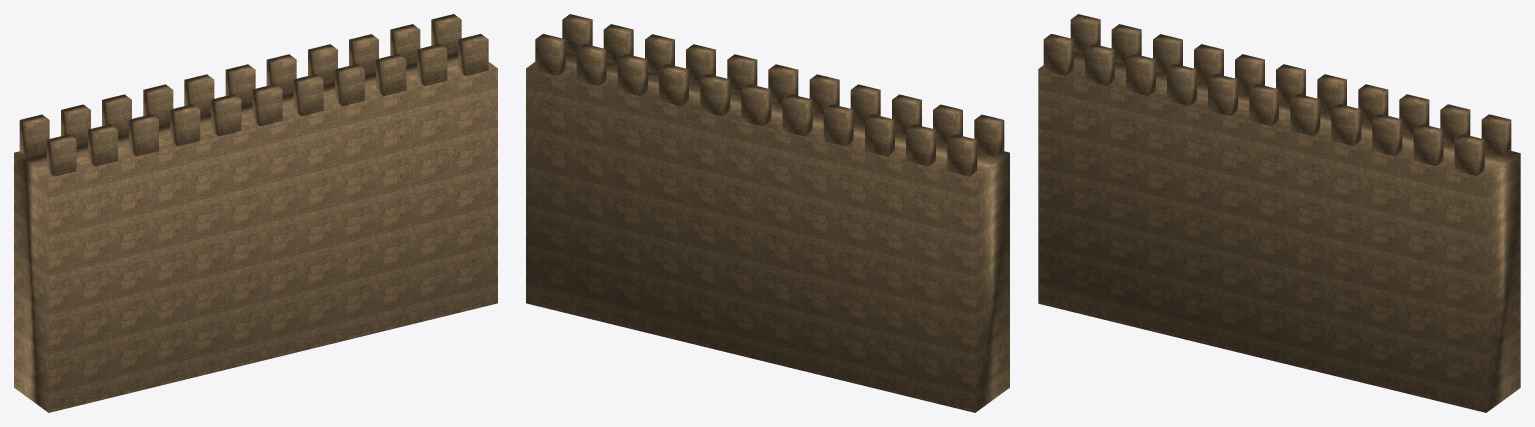
The model's file is city_wall.glb.
3 renders of one model, left to right at view 1: azimuth 30°, elevation 25°; view 2: azimuth 150°, elevation 25°; view 3: azimuth 330°, elevation 25°, orthographic.
Parts seen in each view (by area): view 1: city_wall; view 2: city_wall; view 3: city_wall.
Part boxes in pixels (x1=…): city_wall: x1=14, y1=14, x2=497, y2=412; city_wall: x1=526, y1=14, x2=1009, y2=412; city_wall: x1=1038, y1=14, x2=1520, y2=412.
Size of the model in its own units: 24 by 13.6 by 3.2.
Materials: 1 (1 with a texture image).
